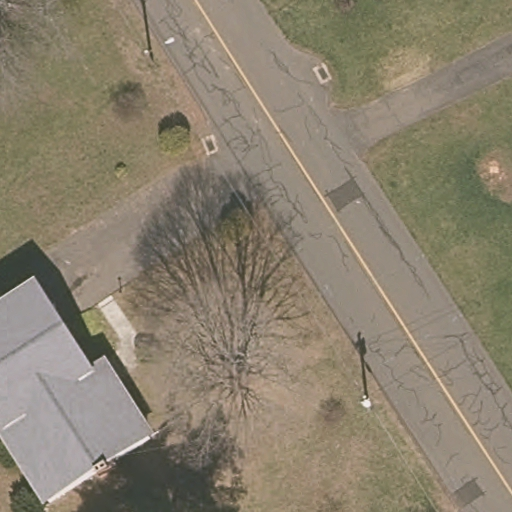DT: (142, 36, 176, 57), (359, 392, 373, 411)
